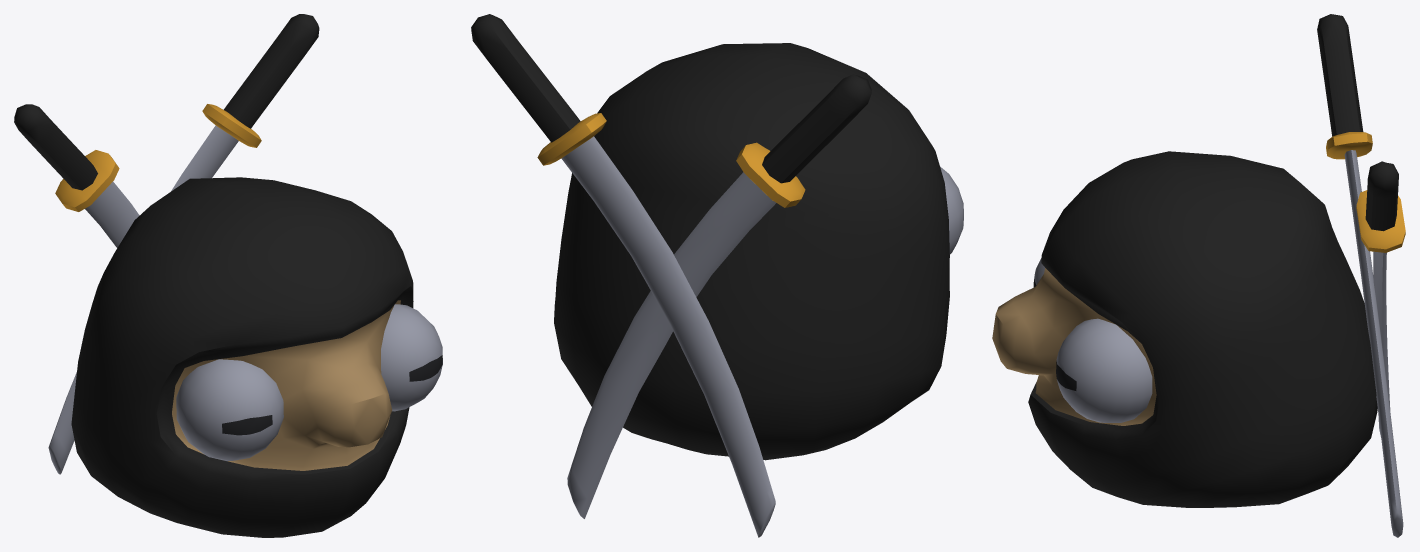
Rendered from Ninja_Blob.001.fbx.
The picture shows the model from 3 angles, left to right: view 1: azimuth 30°, elevation 25°; view 2: azimuth 150°, elevation 25°; view 3: azimuth 270°, elevation 25°; orthographic projection. The views are drawn at different scales.
Visible parts, largest first — view 1: Ninja_Blob.001; view 2: Ninja_Blob.001; view 3: Ninja_Blob.001.
Boxes of the visible parts, box(x1,y1,x2,y2) form: Ninja_Blob.001: box(14, 14, 442, 537); Ninja_Blob.001: box(471, 14, 963, 537); Ninja_Blob.001: box(992, 14, 1405, 537).
Size of the model in its own units: 178 by 218 by 193.
